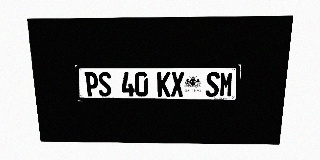0: (135, 72, 148, 97)
4: (121, 72, 135, 97)
K: (157, 72, 170, 97)
M: (219, 72, 234, 97)
P: (84, 72, 99, 96)
S: (205, 72, 220, 97), (98, 72, 112, 96)
X: (171, 72, 184, 97)
